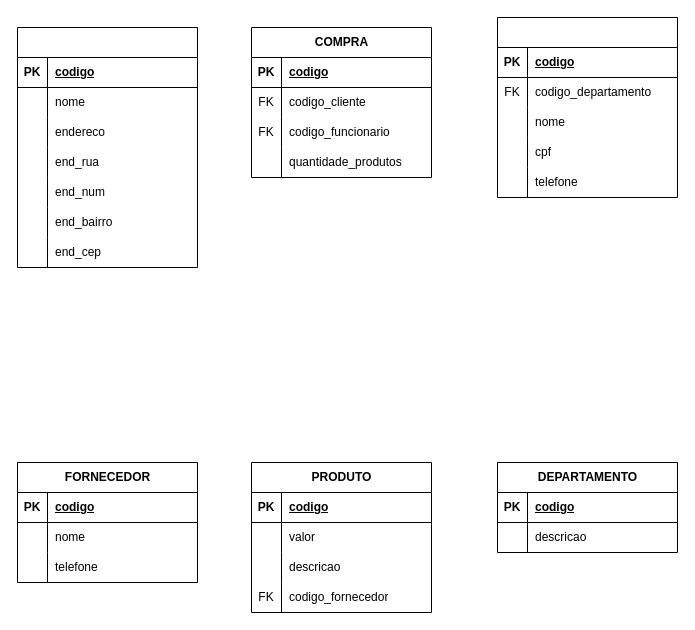
The diagram is 695 pixels wide and 630 high, and some of its shapes have lost their labels. The box of each missing label's shape, as (x1, y1, x2, y2) in pixels:
CLIENTE: (16, 26, 198, 268)
FUNCIONARIO: (496, 16, 678, 198)
